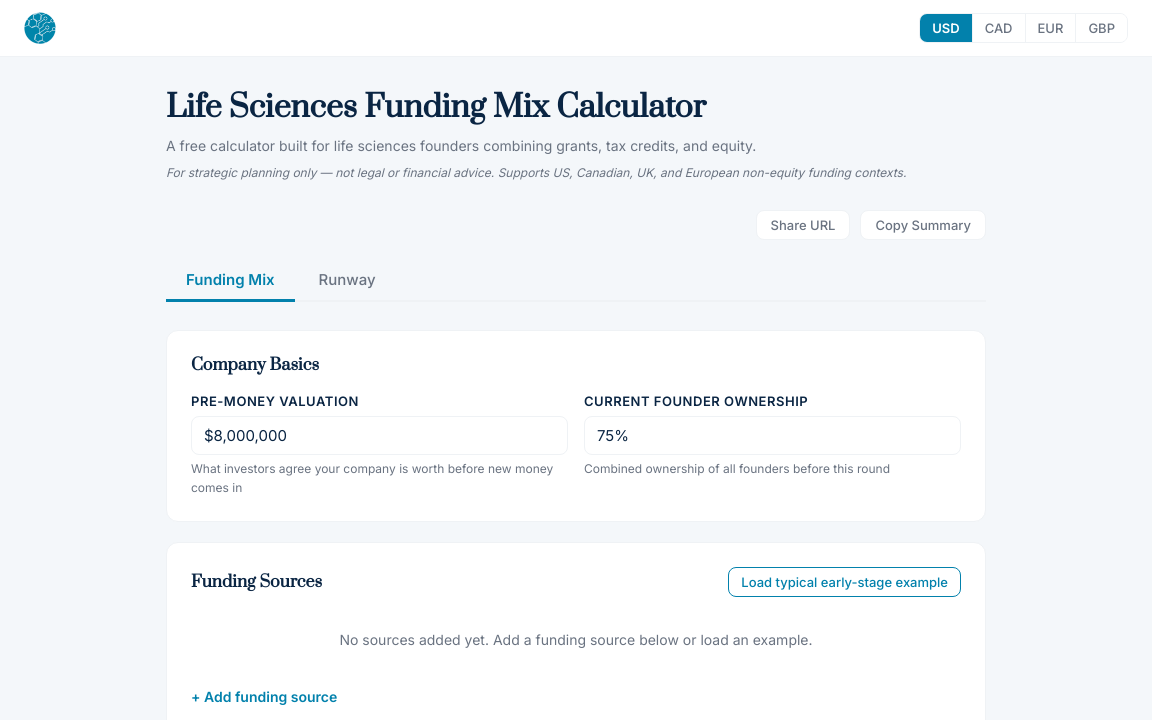
Test: Share URL button — copy feedback › shows "Copied!" after a successful clipboard write
Click the button "Share URL" at (803, 225), box [756, 210, 850, 240]
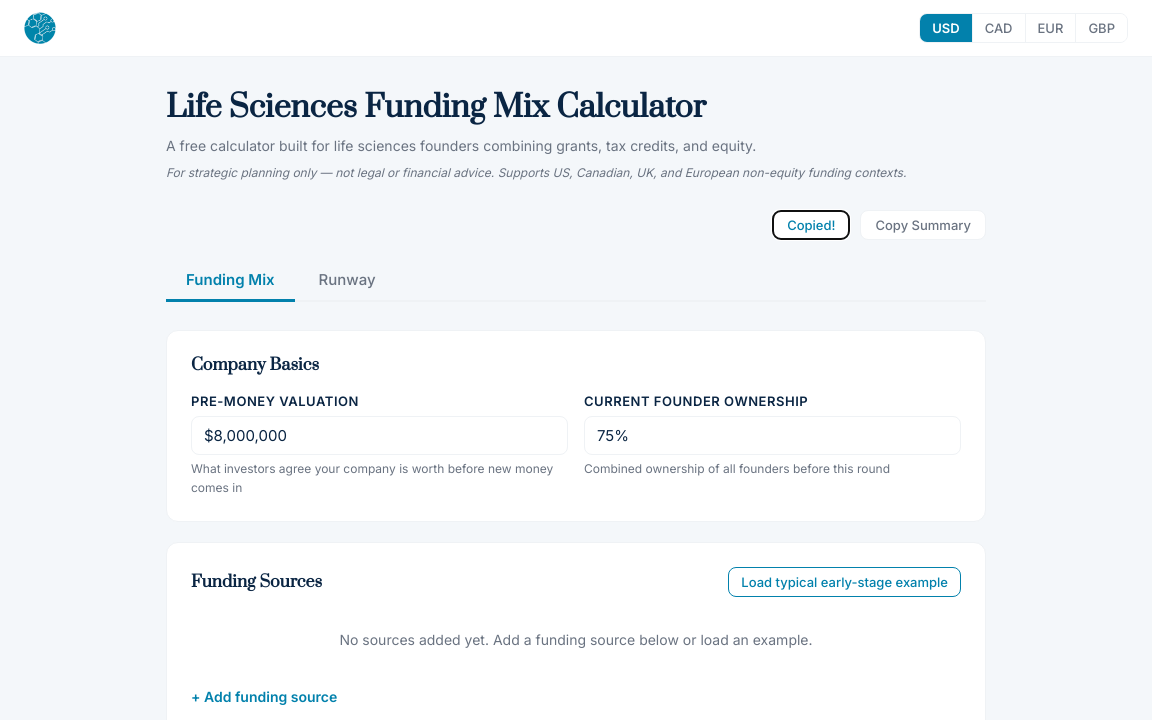
Result: the button "Copied!" is shown at [772, 210, 850, 240]
